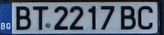character: (136, 4, 154, 30), (32, 4, 49, 31), (52, 5, 69, 31), (68, 4, 85, 30), (119, 4, 136, 30), (99, 4, 115, 30), (15, 5, 31, 30), (87, 4, 98, 30)
